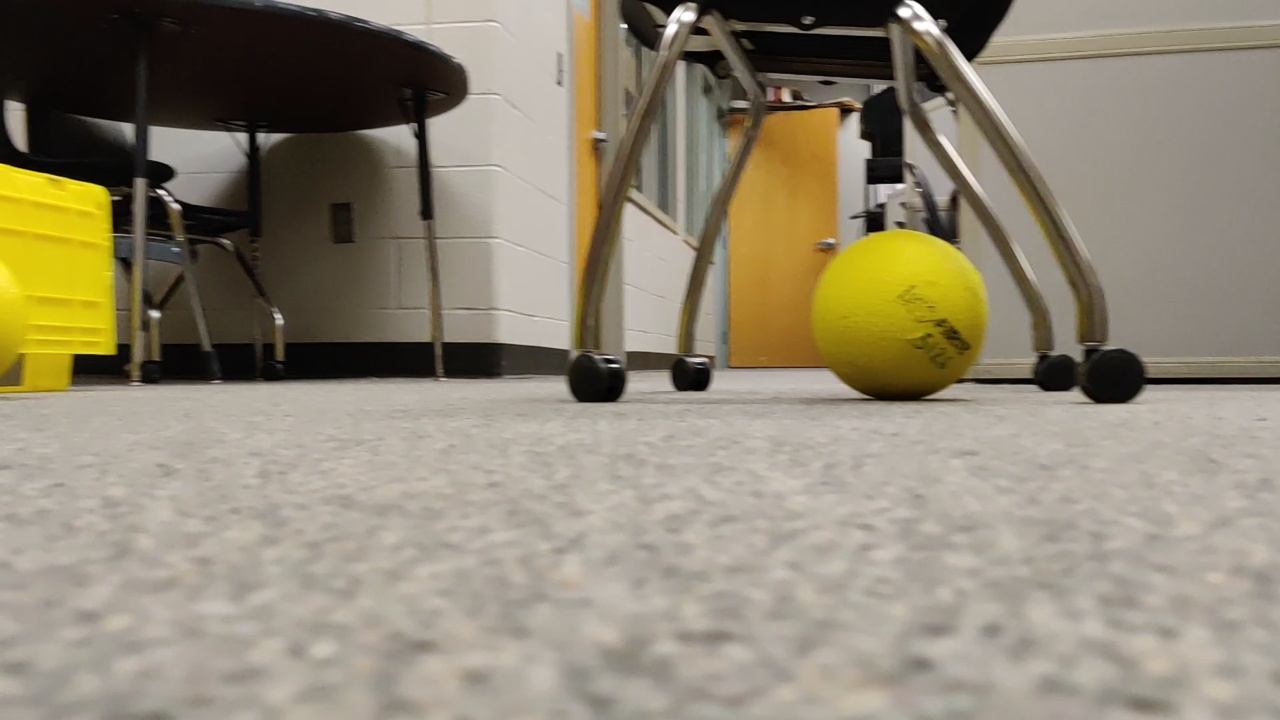Ball: (812, 230, 988, 402), (1, 256, 25, 357)
